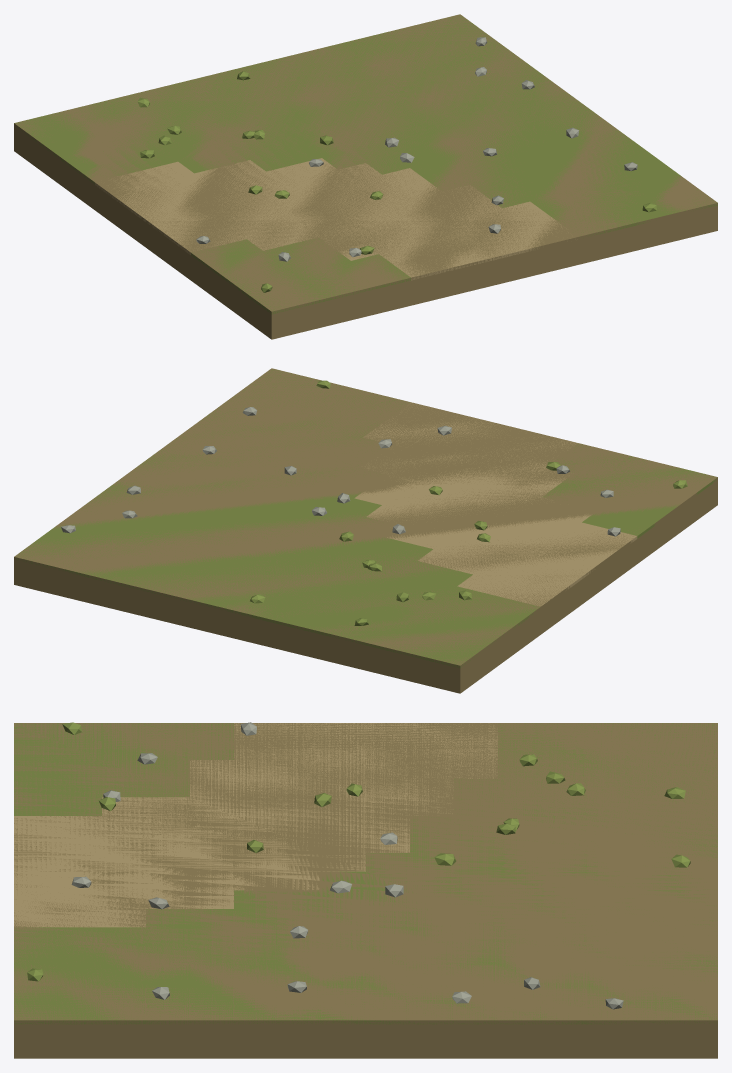
The model's file is BP_Tile_Corner_4m.fbx.
3 renders of one model, top to bottom at view 1: azimuth 30°, elevation 25°; view 2: azimuth 150°, elevation 25°; view 3: azimuth 270°, elevation 25°, orthographic. The views are drawn at different scales.
Parts seen in each view (by area): view 1: BP_Tile_Corner_4m; view 2: BP_Tile_Corner_4m; view 3: BP_Tile_Corner_4m.
Part boxes in pixels (bbox=[...]): BP_Tile_Corner_4m: bbox=[14, 14, 717, 339]; BP_Tile_Corner_4m: bbox=[14, 368, 717, 693]; BP_Tile_Corner_4m: bbox=[14, 722, 717, 1058].
Size of the model in its own units: 400 by 31.57 by 400.
